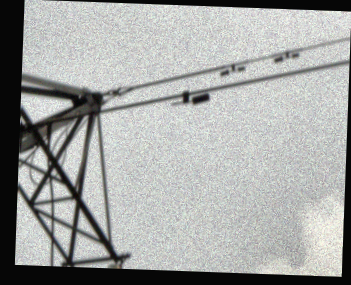damper: (218, 62, 247, 76), (273, 50, 301, 63)
damper_defect: (166, 87, 211, 110)
